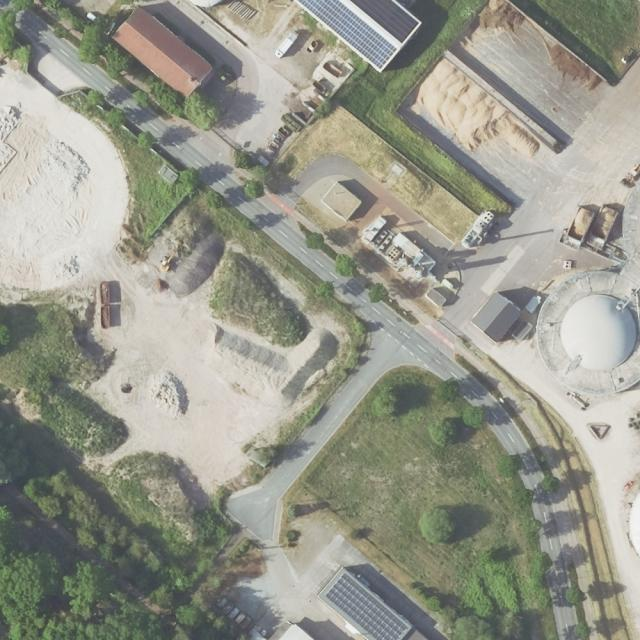PV: (298, 0, 397, 69), (324, 573, 409, 640)
